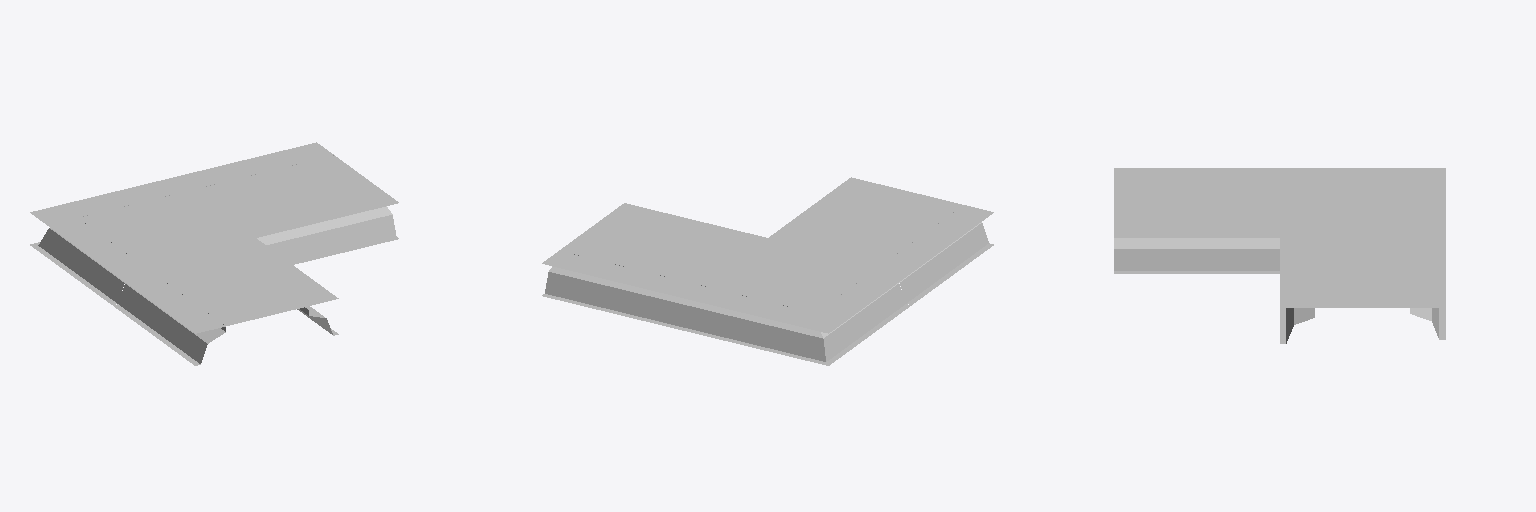
The model's file is turn_right_floor.obj.
The picture shows the model from 3 angles: view 1: azimuth 30°, elevation 25°; view 2: azimuth 150°, elevation 25°; view 3: azimuth 270°, elevation 25°; orthographic projection.
Bounding box in the file's own units: 4 × 0.4777 × 4.